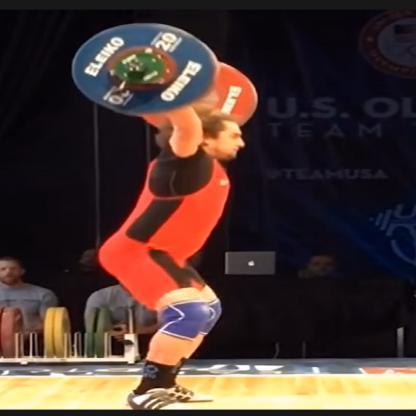barbell: (73, 22, 259, 131)
